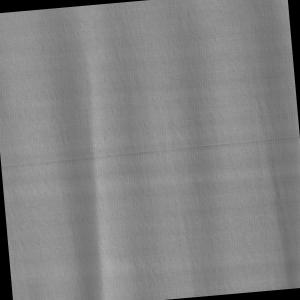Wrinkle: (28, 1, 300, 300)
